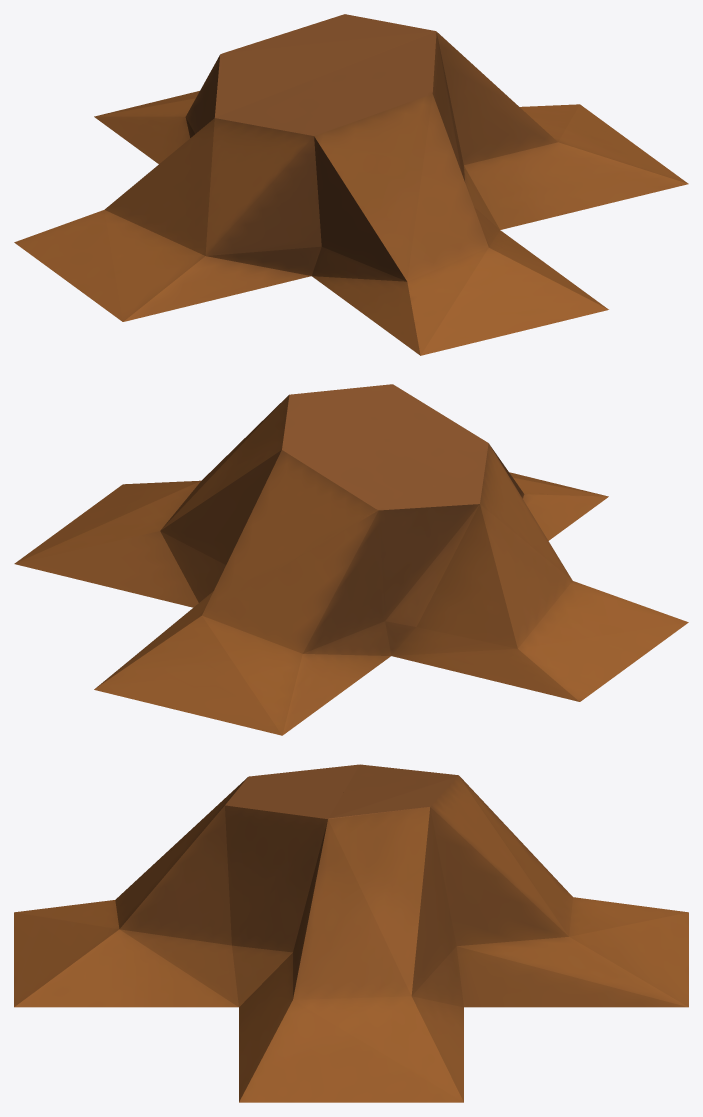
The model's file is ArbrePrairie_G.FBX.
The picture shows the model from 3 angles, top to bottom: view 1: azimuth 30°, elevation 25°; view 2: azimuth 150°, elevation 25°; view 3: azimuth 270°, elevation 25°; orthographic projection. The views are drawn at different scales.
Visible parts, largest first — view 1: ArbrePrairie_G; view 2: ArbrePrairie_G; view 3: ArbrePrairie_G.
Part boxes in pixels (left/top/right/bottom): ArbrePrairie_G: left=14, top=14, right=688, bottom=355; ArbrePrairie_G: left=14, top=384, right=688, bottom=735; ArbrePrairie_G: left=14, top=764, right=688, bottom=1102.
Size of the model in its own units: 3 by 0.8738 by 3.
